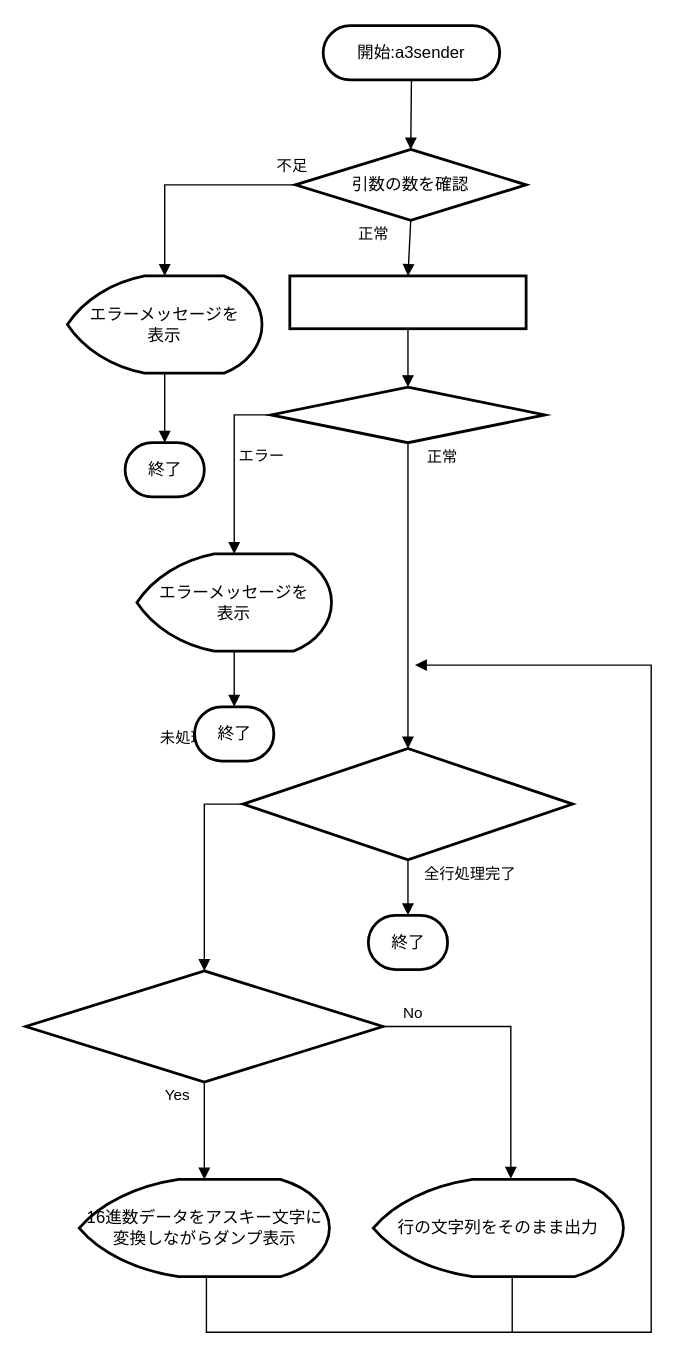
Some shapes in this 687 by 1368 pixel diagram are drawn without their labels. The shapes that lost their labels are listed below. From the top down, each one's centre as x and y in pixels, then its label:
At point 407,301: "指定されたURLへ HTTP GETリクエストを送信".
At point 407,414: "HTTPステータス確認".
At point 407,803: "レスポンステキストを 行ごとにループ処理".
At point 204,1026: "Hexフォーマットか判定 長さ>6 かつ 7文字目が ':'".
